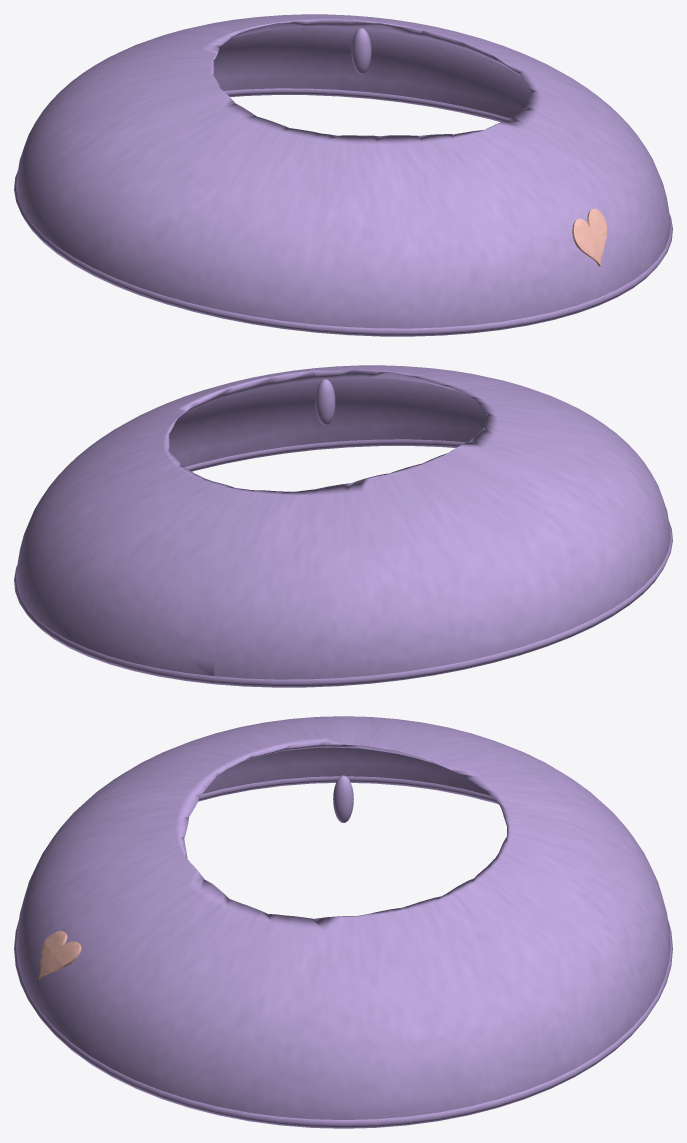
The model's file is restart_headfinish_beret_chic_penguin.glb.
3 renders of one model, top to bottom at view 1: azimuth 30°, elevation 25°; view 2: azimuth 150°, elevation 25°; view 3: azimuth 270°, elevation 25°, orthographic. The views are drawn at different scales.
Visible parts, largest first — view 1: Copa redondeada.003, Banda inferior.003, Corazón bordado.002, Rabito de boina; view 2: Copa redondeada.003, Banda inferior.003, Rabito de boina; view 3: Copa redondeada.003, Banda inferior.003, Corazón bordado.002, Rabito de boina.
Part boxes in pixels (bbox=[...]): Copa redondeada.003: bbox=[16, 14, 670, 328]; Banda inferior.003: bbox=[14, 88, 672, 336]; Corazón bordado.002: bbox=[572, 208, 607, 266]; Rabito de boina: bbox=[351, 28, 371, 74]; Copa redondeada.003: bbox=[16, 365, 670, 679]; Banda inferior.003: bbox=[14, 439, 672, 687]; Rabito de boina: bbox=[315, 379, 335, 425]; Copa redondeada.003: bbox=[16, 716, 670, 1119]; Banda inferior.003: bbox=[14, 776, 672, 1128]; Corazón bordado.002: bbox=[39, 931, 81, 979]; Rabito de boina: bbox=[333, 775, 353, 822].
Bounding box in the file's own units: 0.7957 × 0.2788 × 0.7623.
Materials: 2 (2 with a texture image).
